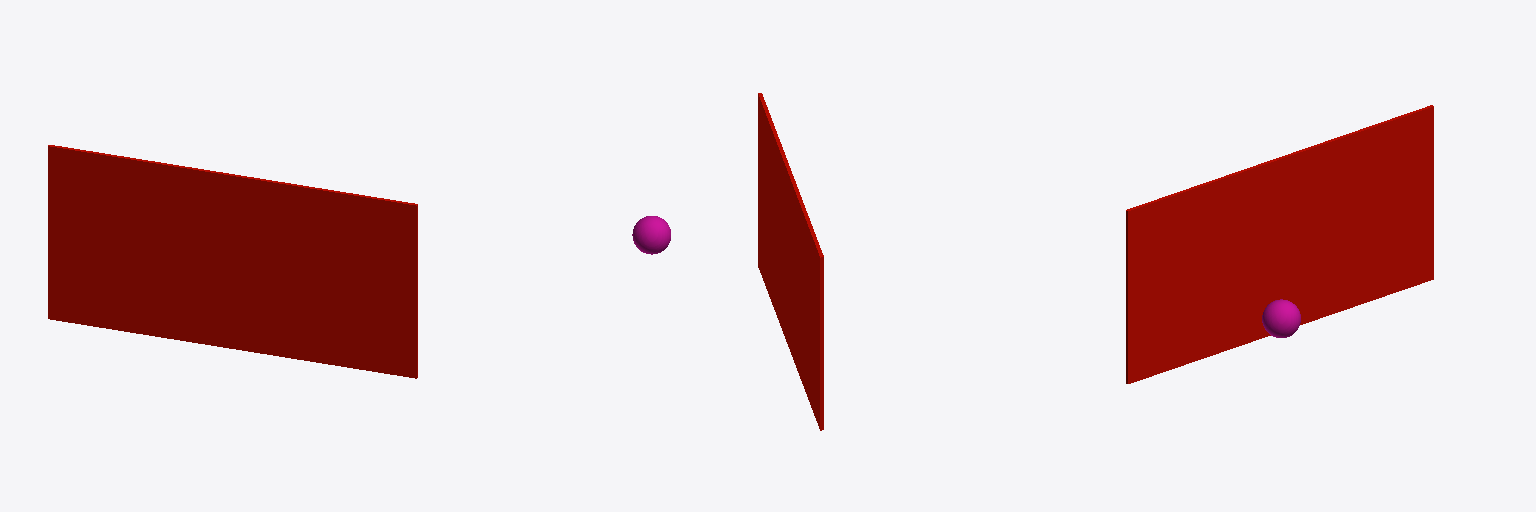
File: blend2.obj
3 views of the same model, side by side, from view 1: azimuth 30°, elevation 25°; view 2: azimuth 150°, elevation 25°; view 3: azimuth 270°, elevation 25° (orthographic).
Parts seen in each view (by area): view 1: Cube.001; view 2: Cube.001, Sphere; view 3: Cube.001, Sphere.
Part boxes in pixels (left/top/right/bottom): Cube.001: left=48, top=145, right=417, bottom=378; Cube.001: left=758, top=93, right=823, bottom=430; Sphere: left=632, top=216, right=670, bottom=254; Cube.001: left=1126, top=105, right=1433, bottom=383; Sphere: left=1262, top=299, right=1300, bottom=337.
Size of the model in its own units: 15.68 by 9.81 by 15.87.